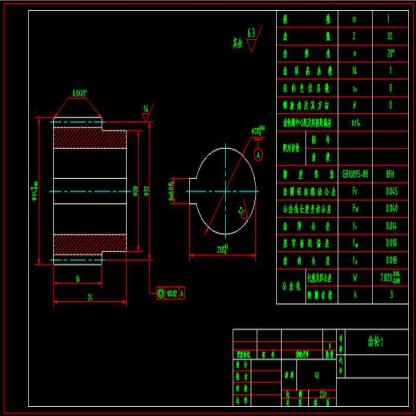FOD: (51, 113, 129, 268)
